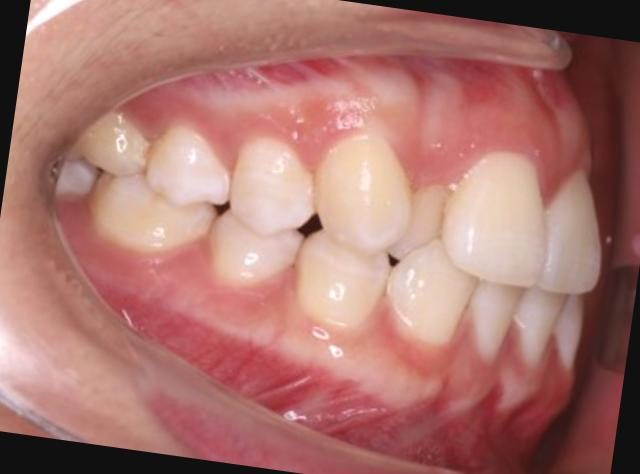molar class III 3/4: (44, 98, 227, 286)
